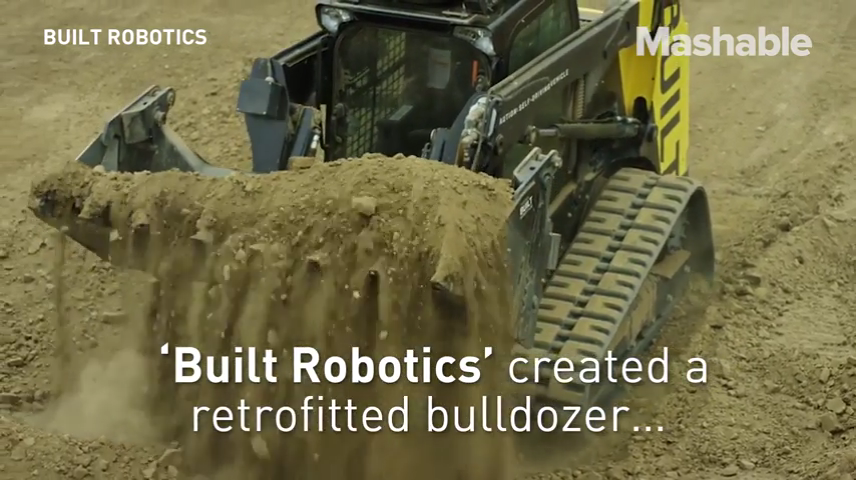con_eq: (66, 2, 716, 433)
